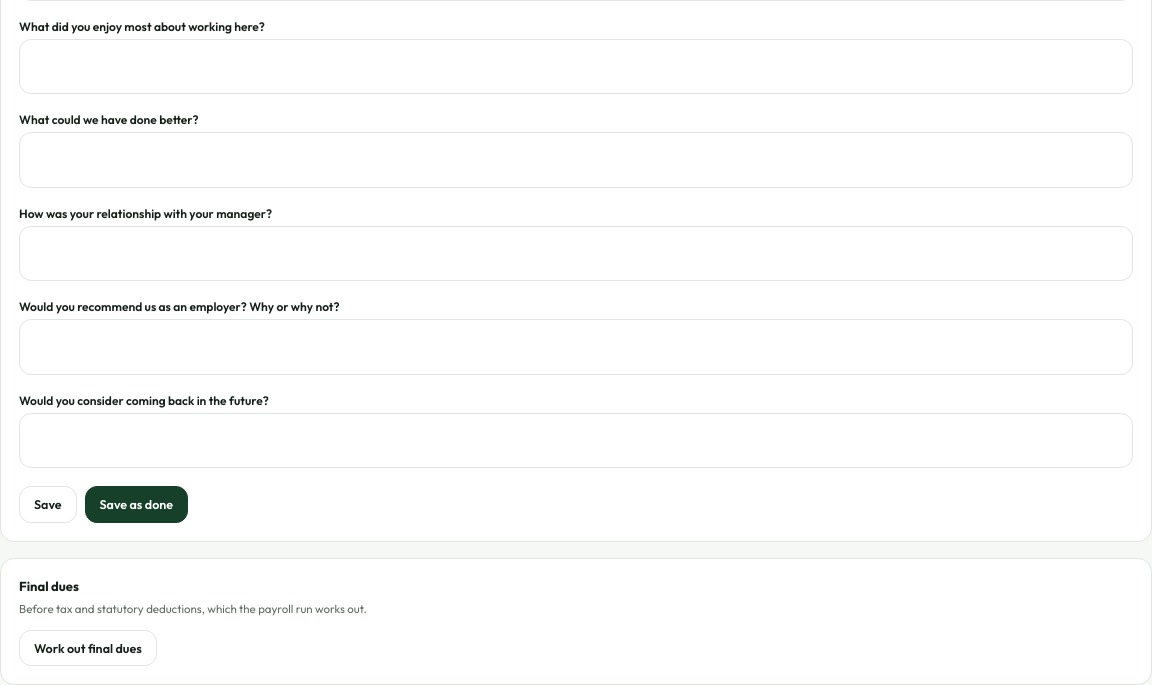
ExitDetail › works out the final dues as a statement HR can adjust and save
The width and height of the screenshot is (1152, 685).
Later steps or results of the test are not shown.
(page scrolled)
Click the button "Work out final dues" at point(88, 648), box [19,630,157,666]
(page scrolled)
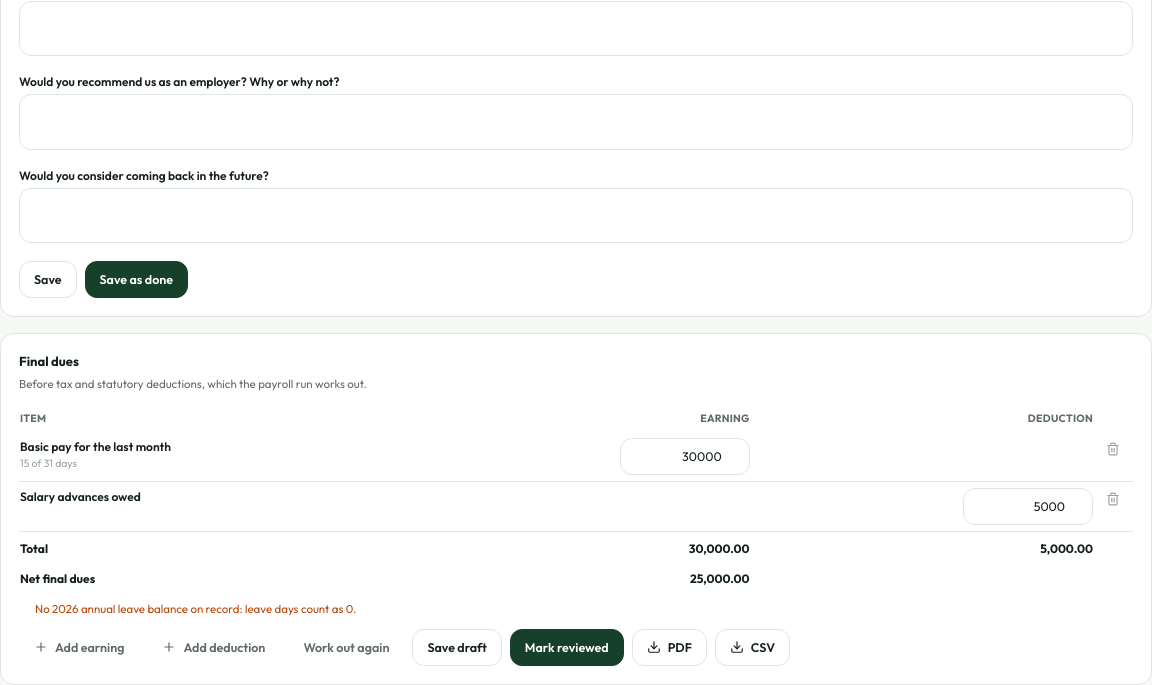
expect the text "Basic pay for the last month" is shown: met, box [20,439,171,454]
expect the cell with test id "dues-net" reads "25,000.00": met, box [690,571,750,586]
expect the list item "No 2026 annual leave balance" is shown: met, box [35,601,356,616]
Replace the text in the number field named "Salary advances owed amount" with "2000" at point(1028, 506), box [963,488,1093,525]
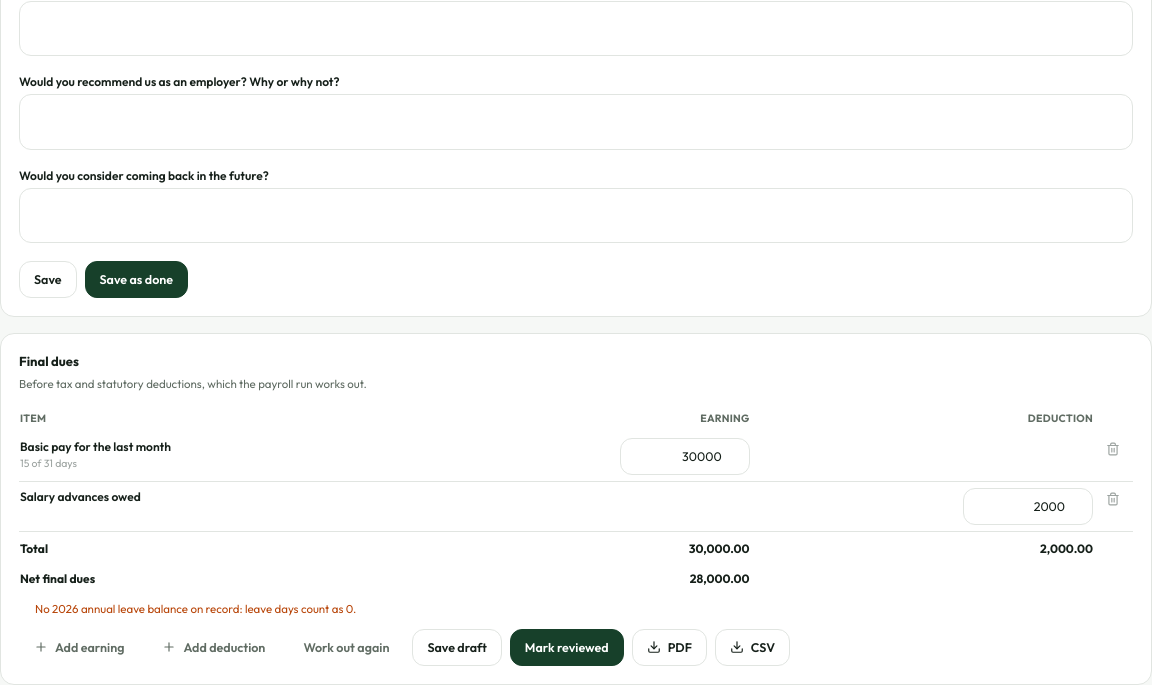
expect the cell with test id "dues-net" reads "28,000.00": met, box [690,571,750,586]
